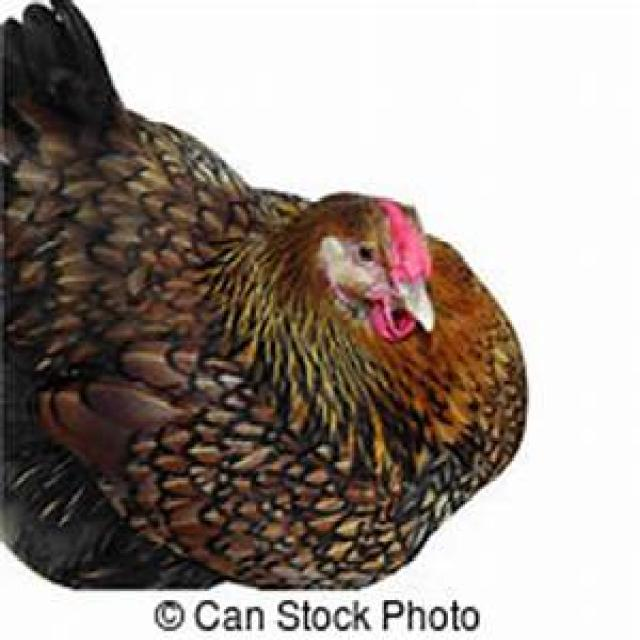chicken: (0, 0, 529, 591)
